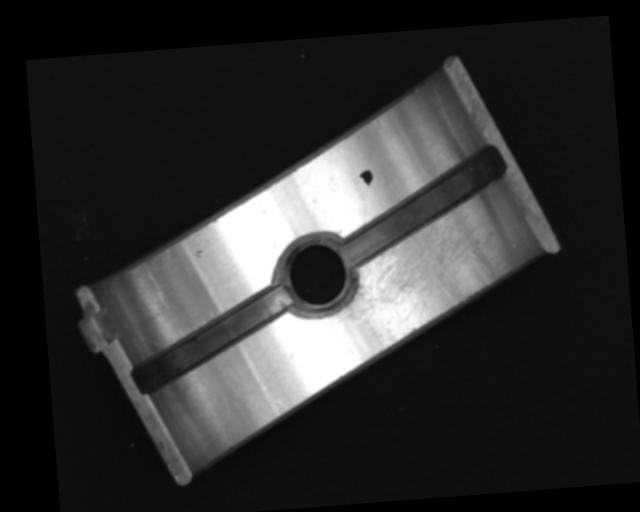blot: (357, 168, 374, 188)
bruise: (194, 248, 205, 260)
gap: (338, 146, 509, 267), (129, 289, 296, 395)
hole: (277, 234, 357, 319)
scratch: (319, 208, 502, 361)
